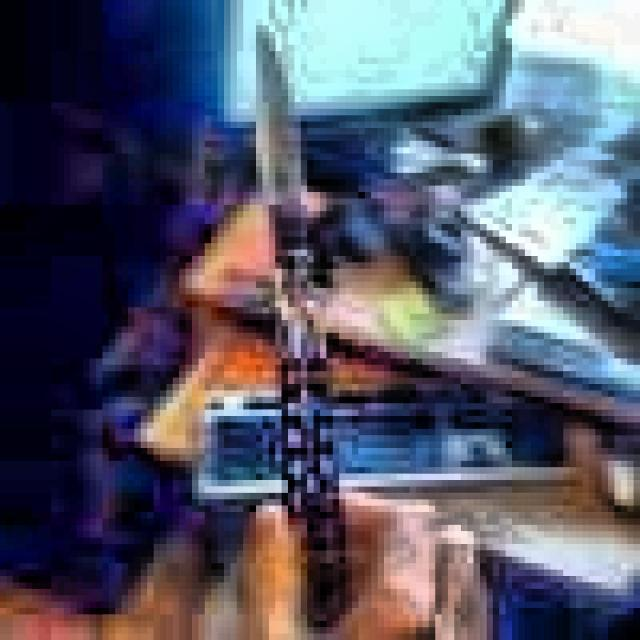knife: (254, 30, 356, 634)
